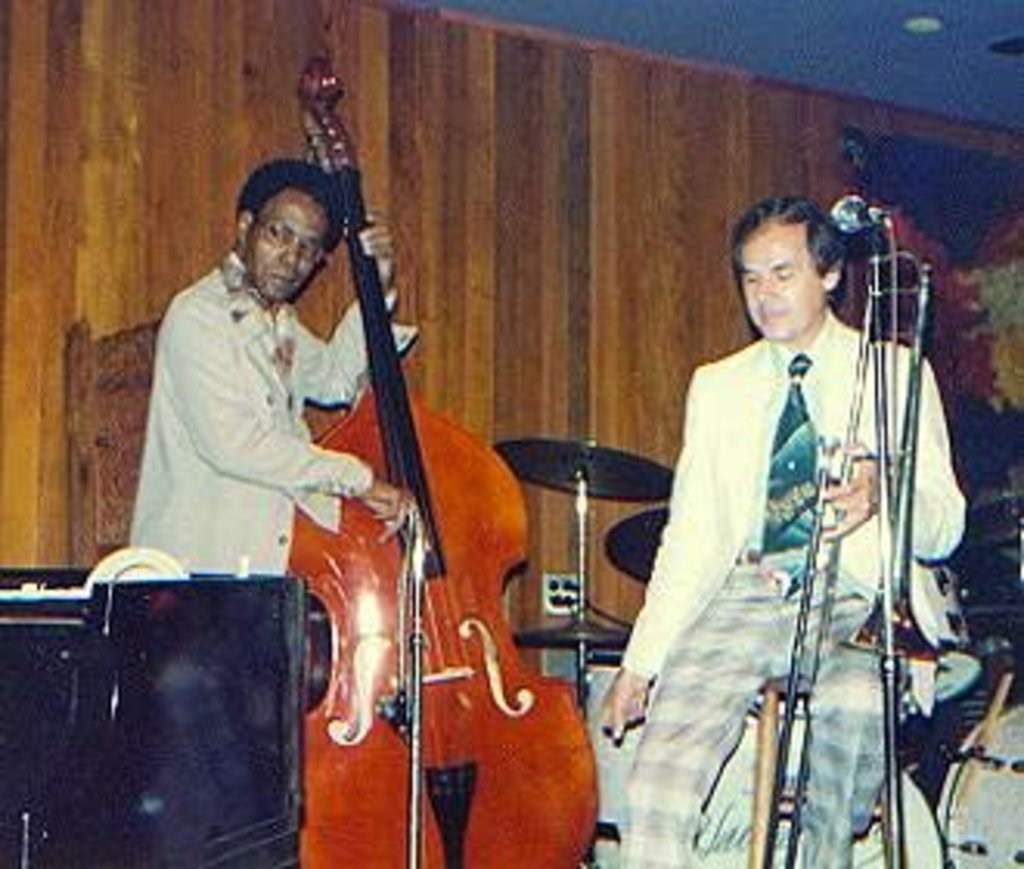Person: (602, 196, 966, 869), (130, 157, 420, 576)
